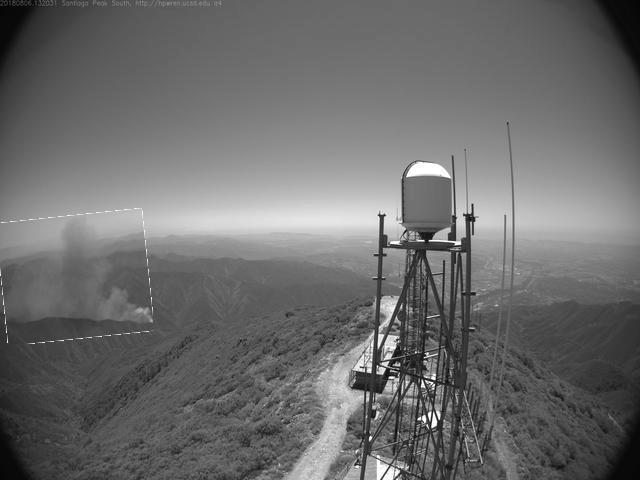smoke: (1, 212, 153, 343)
